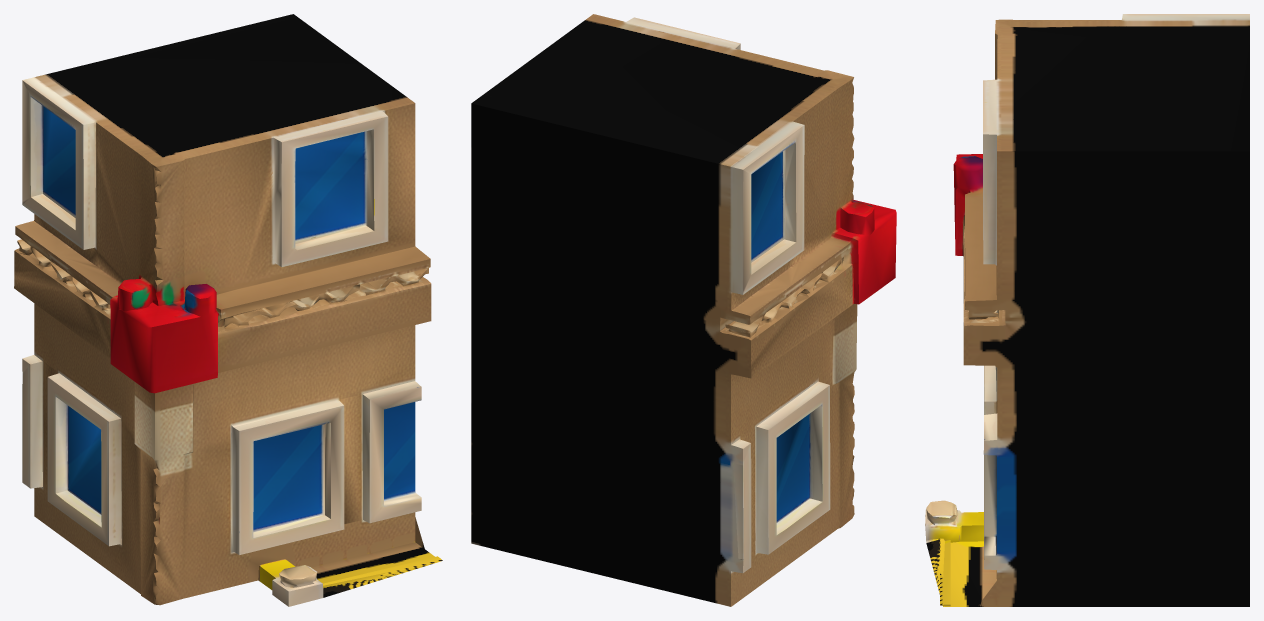
Rendered from 5-upper-walls-front-left.fbx.
3 renders of one model, left to right at view 1: azimuth 30°, elevation 25°; view 2: azimuth 150°, elevation 25°; view 3: azimuth 270°, elevation 25°, orthographic. The views are drawn at different scales.
Visible parts, largest first — view 1: upper-walls-front-left; view 2: upper-walls-front-left; view 3: upper-walls-front-left.
Boxes of the visible parts, left/top/right/bottom form: upper-walls-front-left: left=14, top=14, right=442, bottom=606; upper-walls-front-left: left=471, top=14, right=896, bottom=606; upper-walls-front-left: left=925, top=14, right=1249, bottom=606.
Bounding box in the file's own units: 5122 × 7482 × 4834.
1 material, 1 textured.
